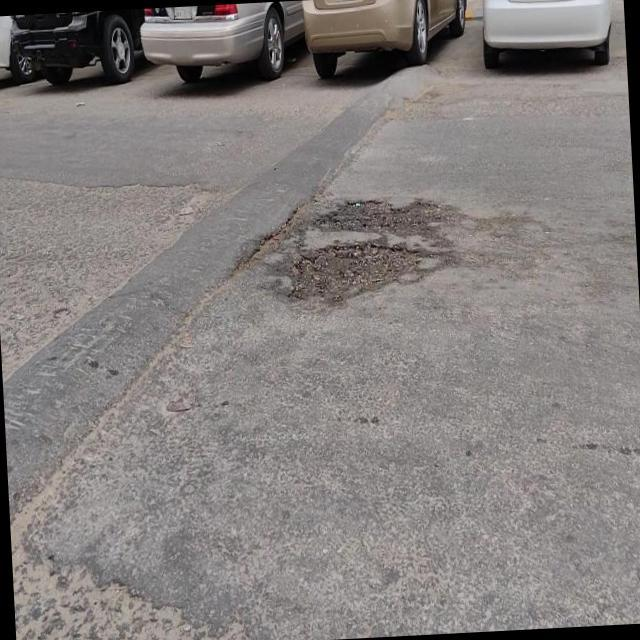Pothole: (287, 244, 426, 306), (317, 196, 443, 241)
